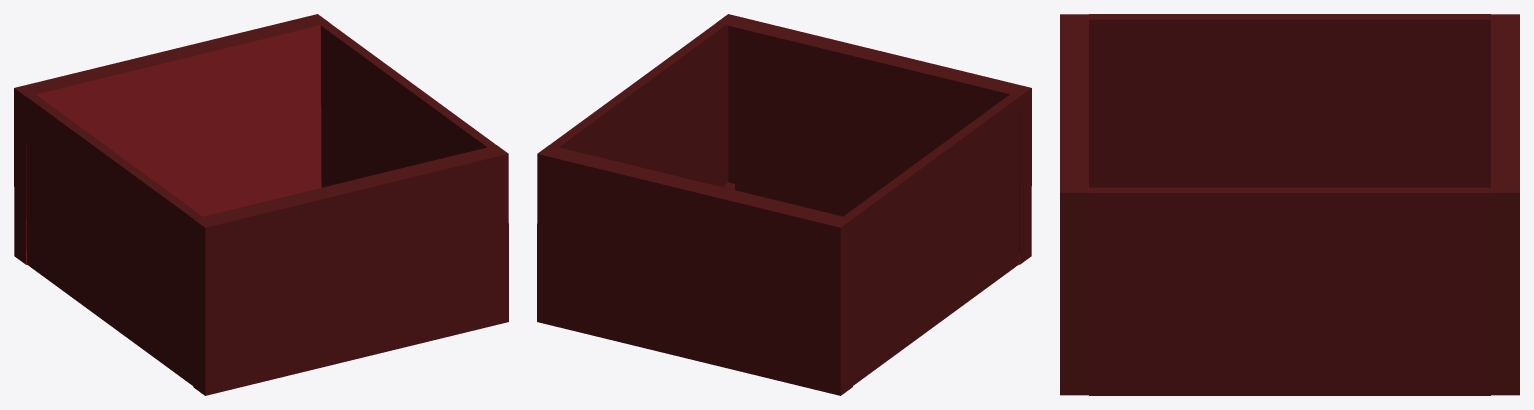
The model's file is fuelInlet.gltf.
3 renders of one model, left to right at view 1: azimuth 30°, elevation 25°; view 2: azimuth 150°, elevation 25°; view 3: azimuth 270°, elevation 25°, orthographic. The views are drawn at different scales.
Visible parts, largest first — view 1: 箱; view 2: 箱; view 3: 箱.
Boxes of the visible parts, left/top/right/bottom form: 箱: left=14, top=14, right=508, bottom=395; 箱: left=537, top=14, right=1031, bottom=395; 箱: left=1060, top=14, right=1519, bottom=395.
Bounding box in the file's own units: 0.9474 × 0.502 × 1.03.
Materials: 2 (2 with a texture image).
